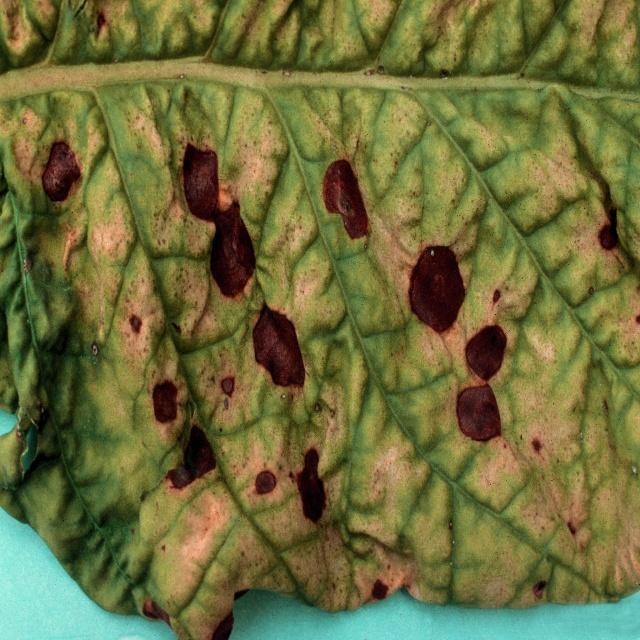leaf_spot: (19, 106, 590, 569)
